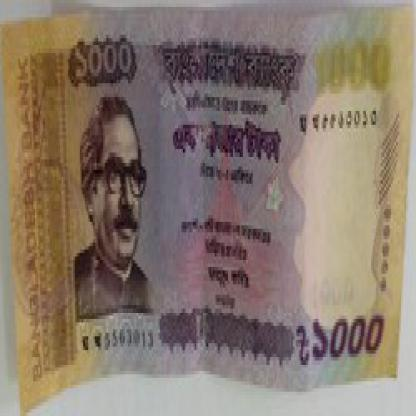One Thousand taka: (293, 308, 391, 371), (70, 42, 136, 86)
